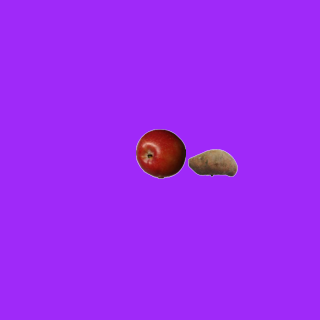Apple Braeburn: (135, 128, 185, 178)
Potato Sweet: (187, 137, 237, 187)
